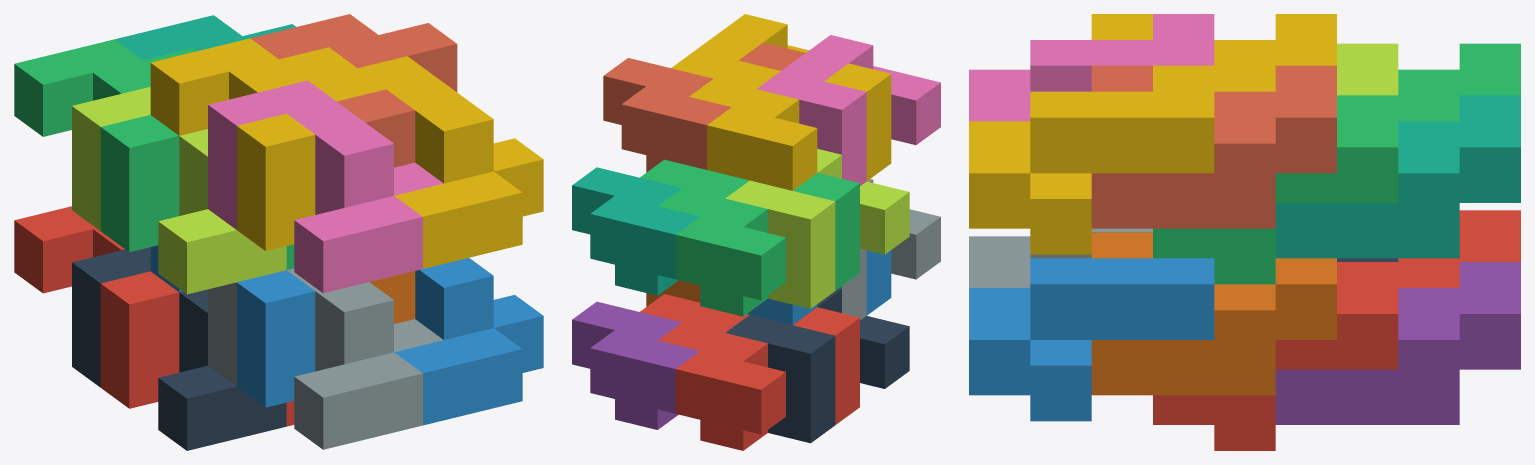
File: tiling.obj
3 views of the same model, side by side, from view 1: azimuth 30°, elevation 25°; view 2: azimuth 150°, elevation 25°; view 3: azimuth 270°, elevation 25° (orthographic). The views are drawn at different scales.
Parts seen in each view (by area): view 1: copy_2_domain_4, copy_2_domain_8, copy_2_domain_2, copy_1_domain_4, copy_1_domain_3, copy_2_domain_6, copy_1_domain_1, copy_2_domain_3, copy_2_domain_1, copy_1_domain_8, copy_1_domain_2, copy_1_domain_7 (+1 smaller); view 2: copy_1_domain_1, copy_1_domain_3, copy_1_domain_4, copy_2_domain_4, copy_2_domain_3, copy_2_domain_1, copy_1_domain_8, copy_1_domain_7, copy_1_domain_5, copy_2_domain_8, copy_2_domain_2, copy_1_domain_2 (+3 smaller); view 3: copy_2_domain_8, copy_2_domain_6, copy_1_domain_8, copy_1_domain_7, copy_1_domain_5, copy_1_domain_6, copy_2_domain_7, copy_2_domain_5, copy_2_domain_4, copy_1_domain_4, copy_1_domain_3, copy_1_domain_1 (+2 smaller).
Boxes of the visible parts, bbox=[...] form: copy_2_domain_4: bbox=[208, 80, 443, 293]; copy_2_domain_8: bbox=[308, 56, 543, 268]; copy_2_domain_2: bbox=[208, 268, 443, 449]; copy_1_domain_4: bbox=[150, 38, 356, 250]; copy_1_domain_3: bbox=[14, 39, 196, 252]; copy_2_domain_6: bbox=[394, 258, 543, 425]; copy_1_domain_1: bbox=[14, 206, 179, 408]; copy_2_domain_3: bbox=[72, 86, 286, 294]; copy_2_domain_1: bbox=[72, 247, 286, 450]; copy_1_domain_8: bbox=[250, 14, 457, 167]; copy_1_domain_2: bbox=[150, 245, 315, 407]; copy_1_domain_7: bbox=[114, 15, 295, 60]; copy_1_domain_1: bbox=[658, 307, 859, 450]; copy_1_domain_3: bbox=[658, 173, 859, 316]; copy_1_domain_4: bbox=[689, 63, 891, 190]; copy_2_domain_4: bbox=[757, 35, 940, 185]; copy_2_domain_3: bbox=[725, 149, 909, 308]; copy_2_domain_1: bbox=[725, 288, 909, 443]; copy_1_domain_8: bbox=[603, 42, 805, 172]; copy_1_domain_7: bbox=[572, 167, 699, 295]; copy_1_domain_5: bbox=[572, 301, 699, 429]; copy_2_domain_8: bbox=[671, 14, 808, 88]; copy_2_domain_2: bbox=[839, 179, 940, 320]; copy_1_domain_2: bbox=[747, 250, 891, 324]; copy_2_domain_8: bbox=[969, 65, 1214, 254]; copy_2_domain_6: bbox=[969, 258, 1214, 421]; copy_1_domain_8: bbox=[1091, 65, 1336, 228]; copy_1_domain_7: bbox=[1275, 95, 1520, 258]; copy_1_domain_5: bbox=[1275, 262, 1520, 424]; copy_1_domain_6: bbox=[1091, 232, 1336, 395]; copy_2_domain_7: bbox=[1153, 95, 1398, 284]; copy_2_domain_5: bbox=[1153, 262, 1398, 450]; copy_2_domain_4: bbox=[969, 14, 1214, 121]; copy_1_domain_4: bbox=[1091, 14, 1336, 91]; copy_1_domain_3: bbox=[1398, 43, 1520, 121]; copy_1_domain_1: bbox=[1398, 210, 1520, 287].
Bounding box in the file's own units: 6 × 6 × 9.
